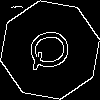Q: (25, 25, 81, 73)
